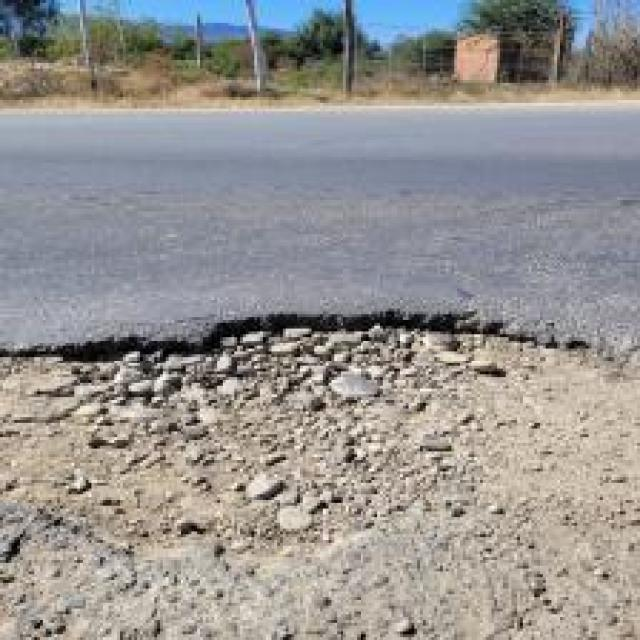BACHE: (0, 305, 639, 639)
